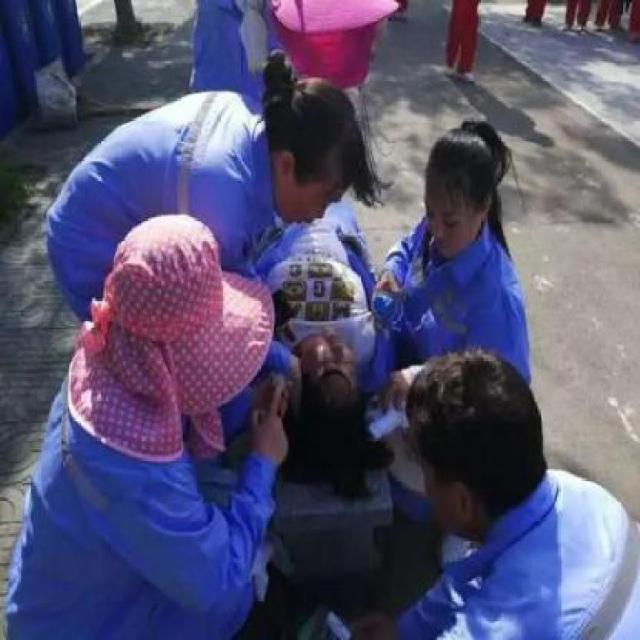fall: (241, 181, 399, 464)
